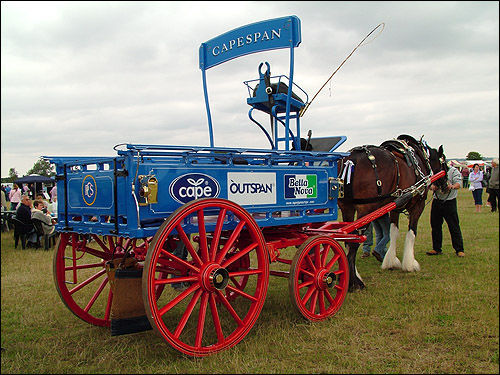horse: (332, 134, 449, 295)
